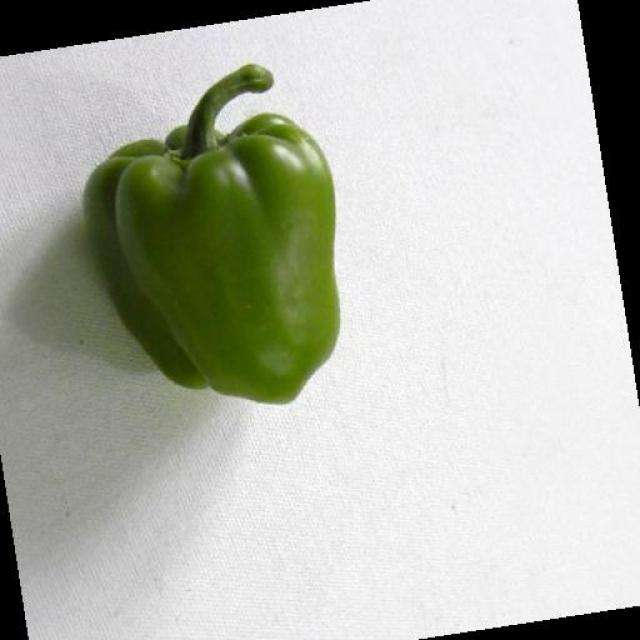Fresh_Capsicum: (80, 94, 353, 363)
